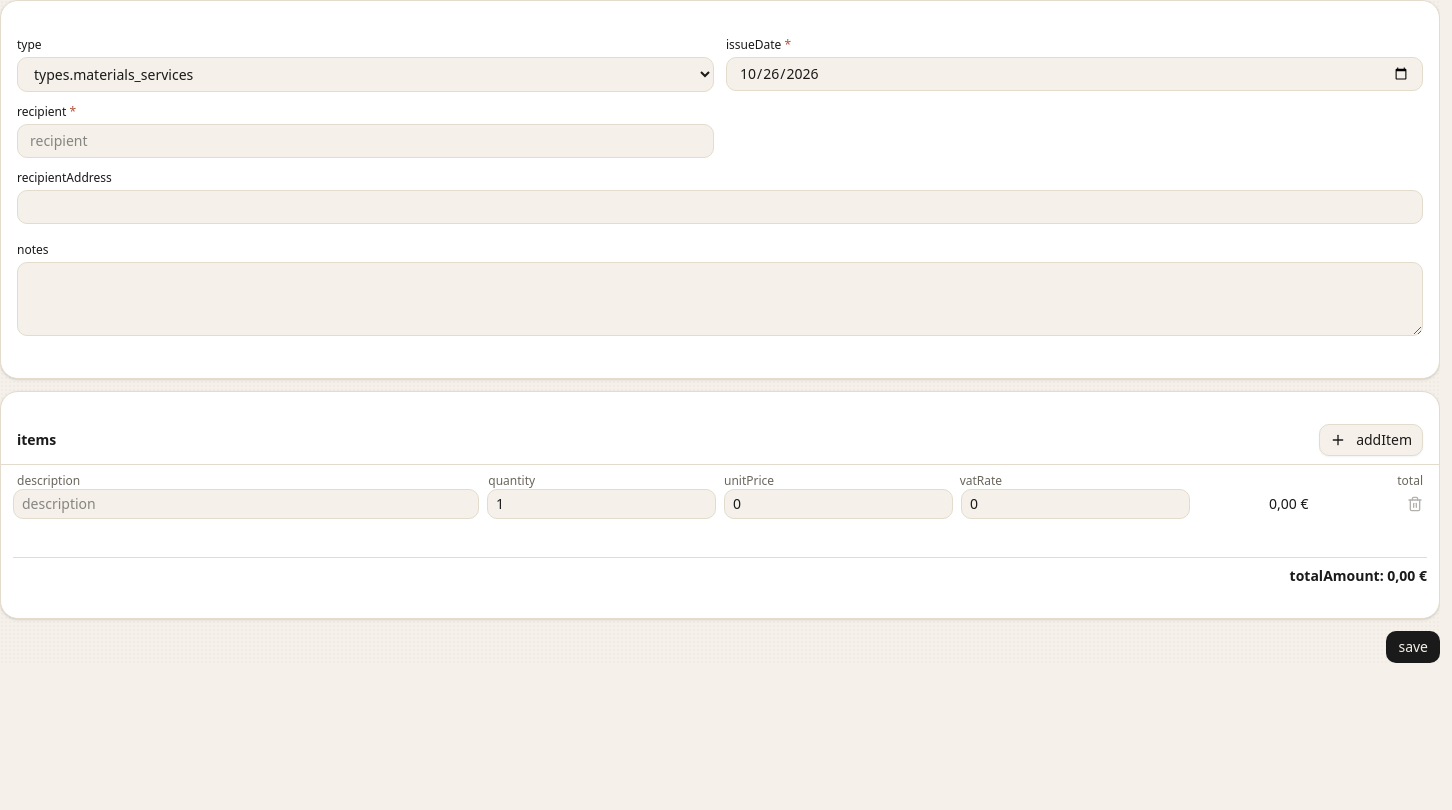
InvoiceForm › Line items management › adds a new line item when clicking add button
The image size is (1452, 810).
Find "Add Item" button at the top (outside the dual-render items container)
Click the button "addItem": point(1371, 440) x1=1319 y1=424 x2=1423 y2=456
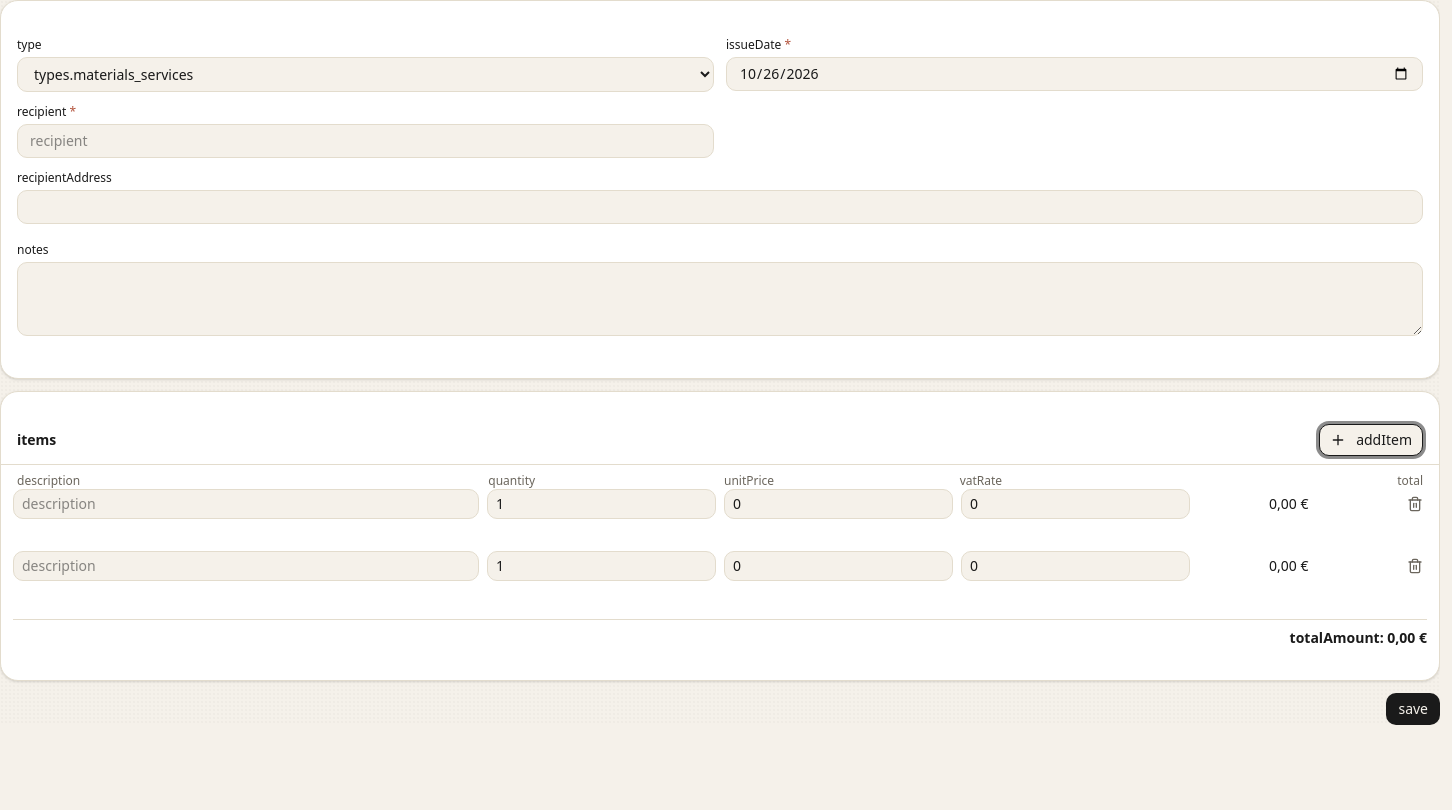
Expected: the number of fields with placeholder "description" is 2, x1=13 y1=489 x2=479 y2=519; x1=13 y1=551 x2=479 y2=581
